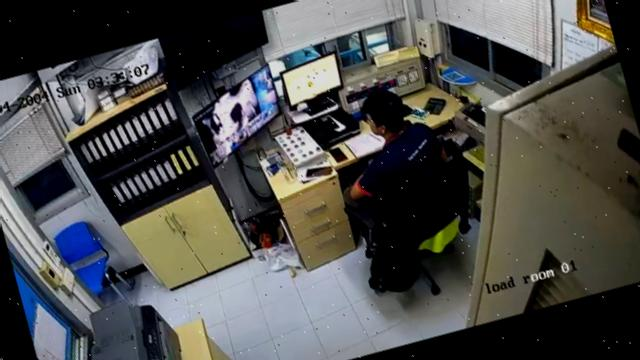Head: (356, 84, 414, 142)
People: (344, 91, 448, 222)
Phone: (326, 145, 349, 163), (304, 165, 333, 176)
